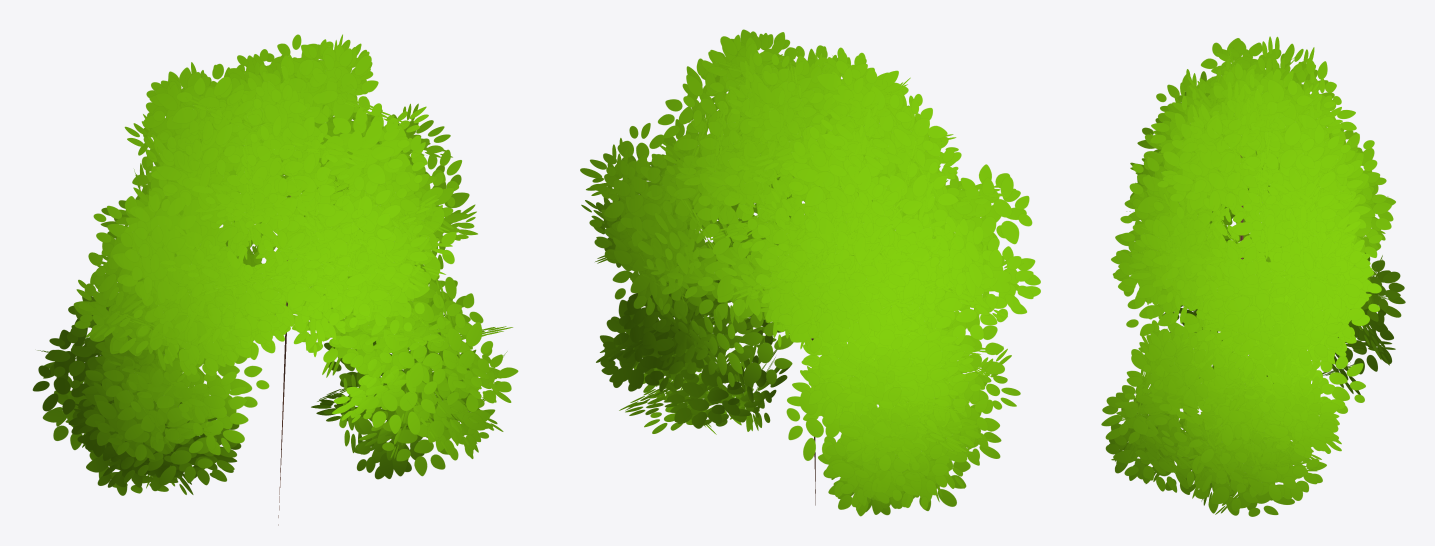
File: tree_oak_a.glb
3 renders of one model, left to right at view 1: azimuth 30°, elevation 25°; view 2: azimuth 150°, elevation 25°; view 3: azimuth 270°, elevation 25°, orthographic. The views are drawn at different scales.
Parts seen in each view (by area): view 1: tree_oak_a; view 2: tree_oak_a; view 3: tree_oak_a.
Part boxes in pixels (left/top/right/bottom): tree_oak_a: left=32, top=34, right=518, bottom=525; tree_oak_a: left=580, top=29, right=1040, bottom=516; tree_oak_a: left=1101, top=36, right=1405, bottom=516.
Size of the model in its own units: 4.26 by 4.49 by 2.97.
2 materials, 2 textured.
